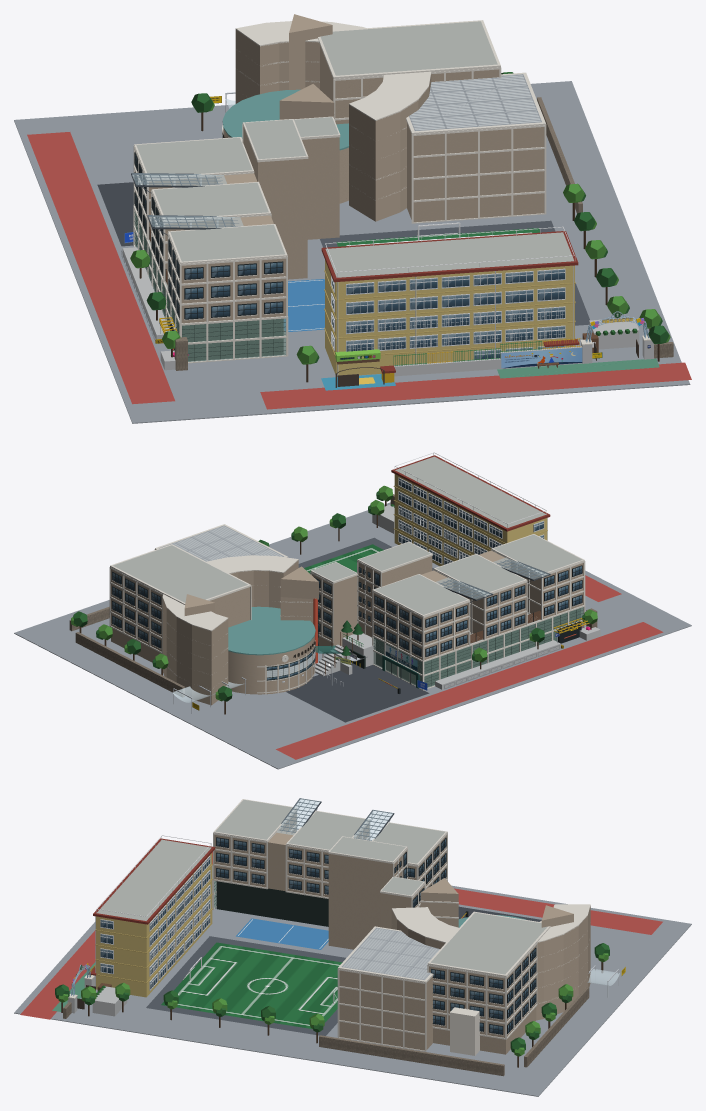
Rendered from place_금호초등학교.glb.
The picture shows the model from 3 angles, top to bottom: view 1: azimuth 30°, elevation 25°; view 2: azimuth 150°, elevation 25°; view 3: azimuth 270°, elevation 25°; orthographic projection. The views are drawn at different scales.
Visible parts, largest first — view 1: Merged_Env_SiteBase, Merged_Env_RedRoad, Merged_Yellow_Core, Merged_Gym_Core, Merged_Cult_Roof, Main_CShaped_ArcWing, Merged_WhiteGridRibs (×2), Merged_WinGlass_Class, Merged_NE_WingRoof, Merged_Yellow_RoofTop, Merged_ClassWinAlum, Merged_Gym_RibRoof (+38 smaller); view 2: Merged_Env_SiteBase, Merged_Env_RedRoad, Merged_WhiteGridRibs (×2), Main_CShaped_ArcWing, Merged_Cult_Roof, Merged_Cult_TaupeCores, Merged_Env_NWPlaza, Merged_WinFrame_3D (×2), Merged_WinGlass_Culture (×2), Group1_HeroPlaza_Rotunda_Wedge, Merged_Yellow_RoofTop, Merged_NE_WingRoof (+31 smaller); view 3: Merged_Env_SiteBase, Merged_Field_SoccerTurf, Merged_WhiteGridRibs (×2), Merged_Gym_Core, Merged_Cult_Roof, Merged_Yellow_Core, Merged_Cult_6FCore, Merged_Env_RedRoad, Merged_NE_WingRoof, Merged_Yellow_RoofTop, Main_CShaped_ArcWing, Merged_WinFrame_3D (×2) (+29 smaller).
Part boxes in pixels (left/top/right/bottom): Merged_Env_SiteBase: left=14, top=81, right=690, bottom=423; Merged_Env_RedRoad: left=27, top=132, right=691, bottom=409; Merged_Yellow_Core: left=325, top=260, right=574, bottom=376; Merged_Gym_Core: left=407, top=123, right=544, bottom=222; Merged_Cult_Roof: left=136, top=137, right=284, bottom=261; Main_CShaped_ArcWing: left=235, top=29, right=431, bottom=221; Merged_WhiteGridRibs (×2): left=133, top=67, right=546, bottom=363; Merged_WinGlass_Class: left=332, top=269, right=564, bottom=359; Merged_NE_WingRoof: left=320, top=21, right=497, bottom=75; Merged_Yellow_RoofTop: left=325, top=232, right=573, bottom=277; Merged_ClassWinAlum: left=331, top=268, right=565, bottom=359; Merged_Gym_RibRoof: left=409, top=74, right=541, bottom=131; Merged_Env_SiteBase: left=14, top=502, right=691, bottom=769; Merged_Env_RedRoad: left=276, top=575, right=663, bottom=759; Merged_WhiteGridRibs (×2): left=109, top=549, right=585, bottom=690; Main_CShaped_ArcWing: left=162, top=560, right=298, bottom=705; Merged_Cult_Roof: left=374, top=534, right=582, bottom=614; Merged_Cult_TaupeCores: left=373, top=550, right=583, bottom=660; Merged_Env_NWPlaza: left=286, top=663, right=429, bottom=722; Merged_WinFrame_3D (×2): left=112, top=565, right=582, bottom=657; Merged_WinGlass_Culture (×2): left=112, top=566, right=581, bottom=656; Group1_HeroPlaza_Rotunda_Wedge: left=228, top=606, right=330, bottom=693; Merged_Yellow_RoofTop: left=395, top=456, right=546, bottom=527; Merged_NE_WingRoof: left=113, top=545, right=247, bottom=602; Merged_Env_SiteBase: left=14, top=865, right=691, bottom=1096; Merged_Field_SoccerTurf: left=161, top=942, right=342, bottom=1028; Merged_WhiteGridRibs (×2): left=212, top=810, right=537, bottom=1051; Merged_Gym_Core: left=339, top=970, right=432, bottom=1050; Merged_Cult_Roof: left=215, top=799, right=445, bottom=863; Merged_Yellow_Core: left=96, top=853, right=212, bottom=997; Merged_Cult_6FCore: left=328, top=851, right=406, bottom=949; Merged_Env_RedRoad: left=20, top=852, right=662, bottom=1019; Merged_NE_WingRoof: left=431, top=912, right=547, bottom=974; Merged_Yellow_RoofTop: left=97, top=839, right=210, bottom=920; Main_CShaped_ArcWing: left=391, top=906, right=590, bottom=1020; Merged_WinFrame_3D (×2): left=216, top=837, right=536, bottom=1034.
Size of the model in its own units: 117 by 20.13 by 131.
Materials: 92 (44 with a texture image).
